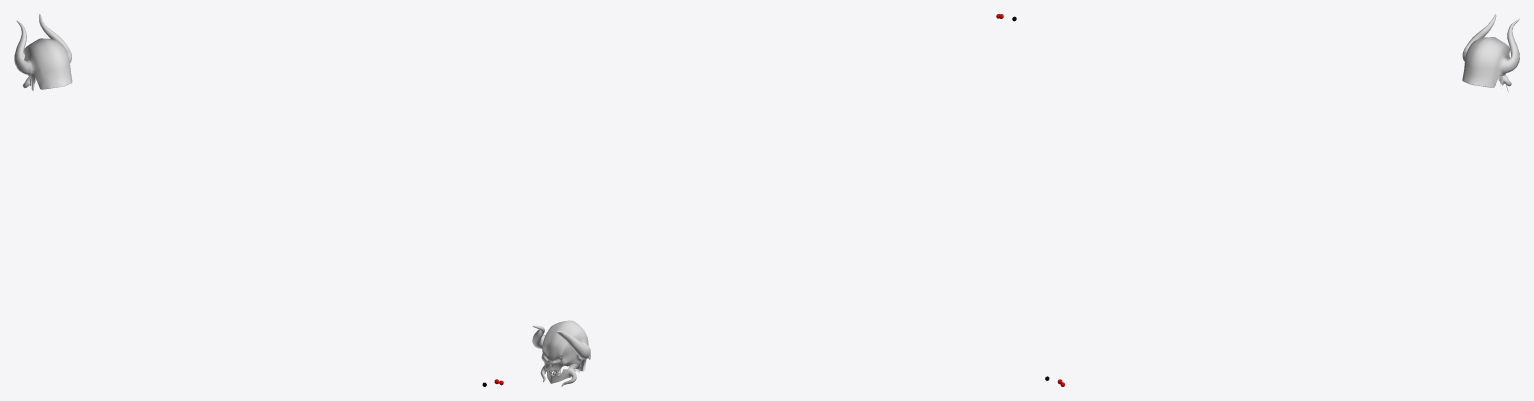
Rendered from HELLHEAD_BASE.DAE.
The picture shows the model from 3 angles, left to right: view 1: azimuth 30°, elevation 25°; view 2: azimuth 150°, elevation 25°; view 3: azimuth 330°, elevation 25°; orthographic projection. The views are drawn at different scales.
Parts seen in each view (by area): view 1: LOOT_ARM_Headwear_Helmet_Sarevok_Mesh; view 2: LOOT_ARM_Headwear_Helmet_Sarevok_Mesh; view 3: LOOT_ARM_Headwear_Helmet_Sarevok_Mesh.
Boxes of the visible parts, x1,y1,x2,y2 form: LOOT_ARM_Headwear_Helmet_Sarevok_Mesh: [14, 14, 72, 91]; LOOT_ARM_Headwear_Helmet_Sarevok_Mesh: [532, 320, 590, 386]; LOOT_ARM_Headwear_Helmet_Sarevok_Mesh: [1462, 14, 1519, 92].
Size of the model in its own units: 0.3513 by 0.4031 by 5.34.
